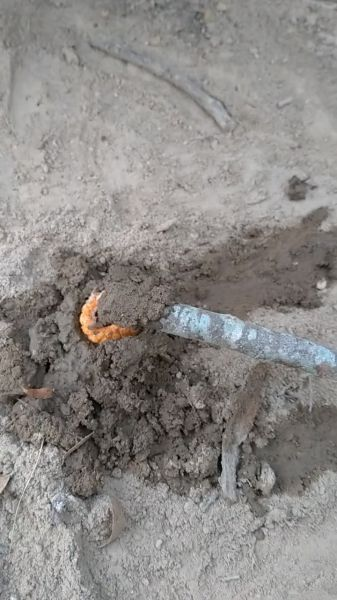eggs: (72, 285, 156, 345)
